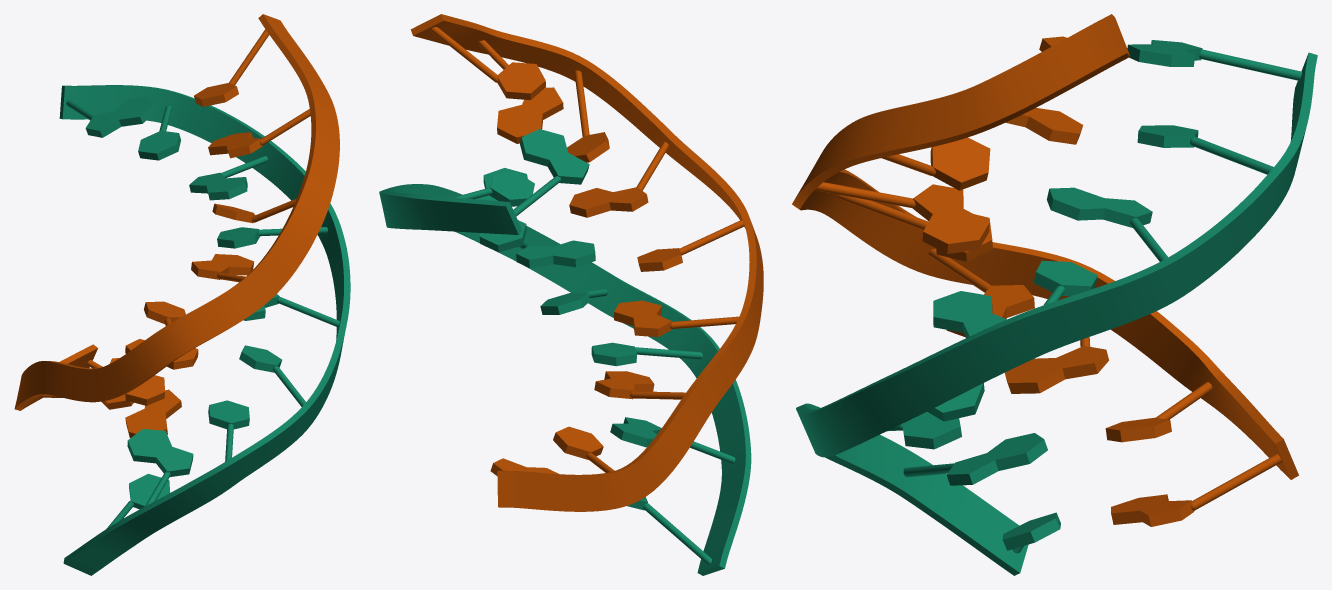
Rendered from C_DNA.glb.
The picture shows the model from 3 angles, left to right: view 1: azimuth 30°, elevation 25°; view 2: azimuth 150°, elevation 25°; view 3: azimuth 270°, elevation 25°; orthographic projection. The views are drawn at different scales.
Size of the model in its own units: 19.47 by 32.34 by 21.79.
